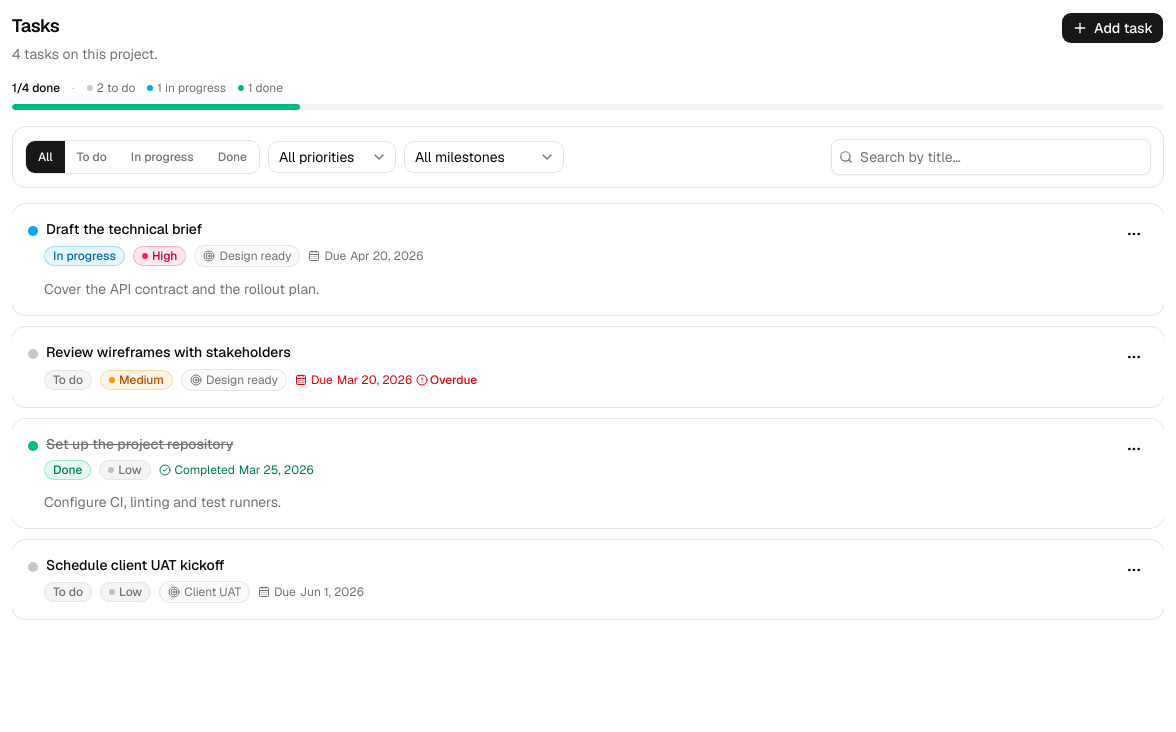
ProjectTasksSection › shows a filtered empty state when the search yields nothing
Type "zzzzzzznonexistent" into the search field named "search tasks".
click(991, 157); type("zzzzzzznonexistent")  # box x1=831 y1=139 x2=1151 y2=175
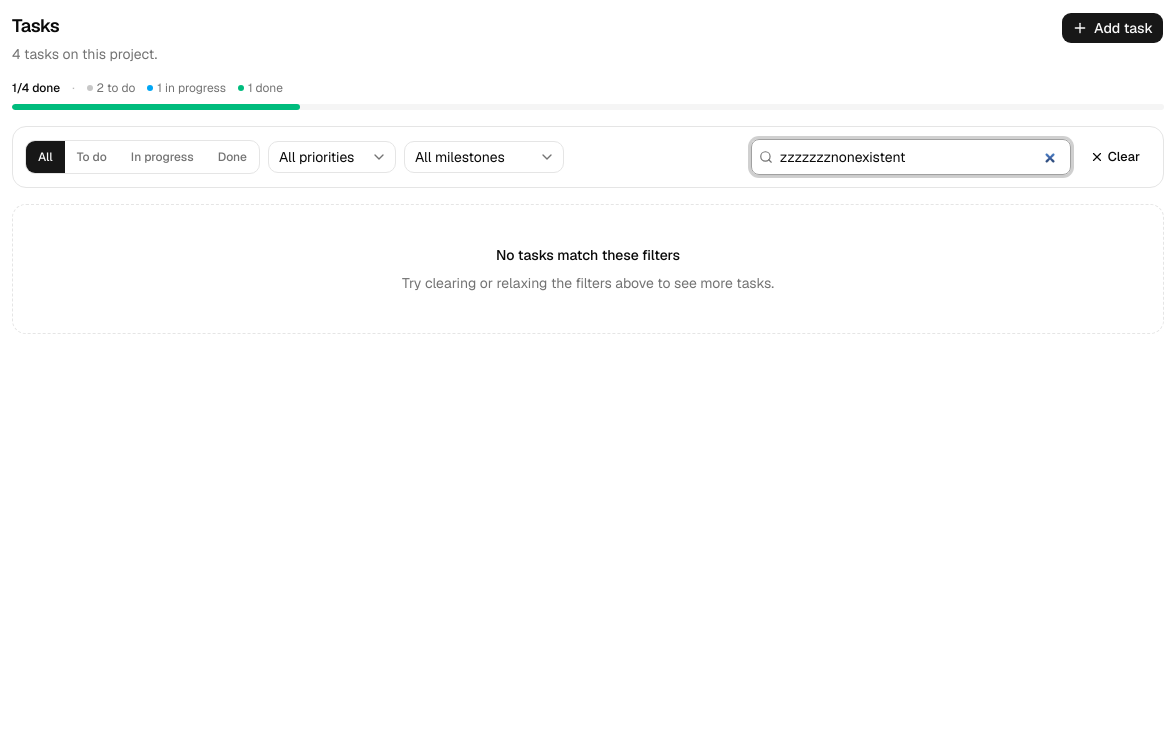
Check: the text "No tasks match these filters" is shown, box x1=496 y1=245 x2=680 y2=265
